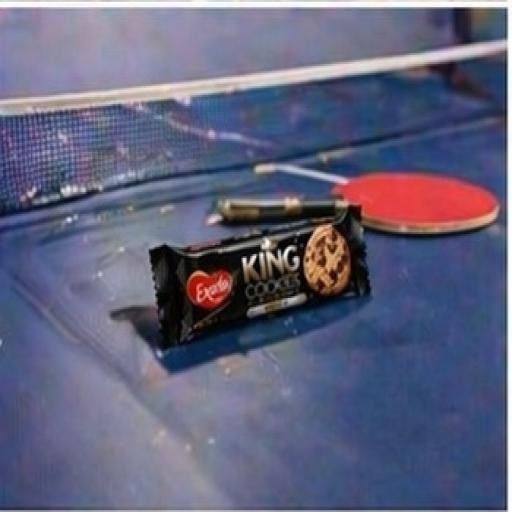king-cooking: (112, 156, 427, 355)
